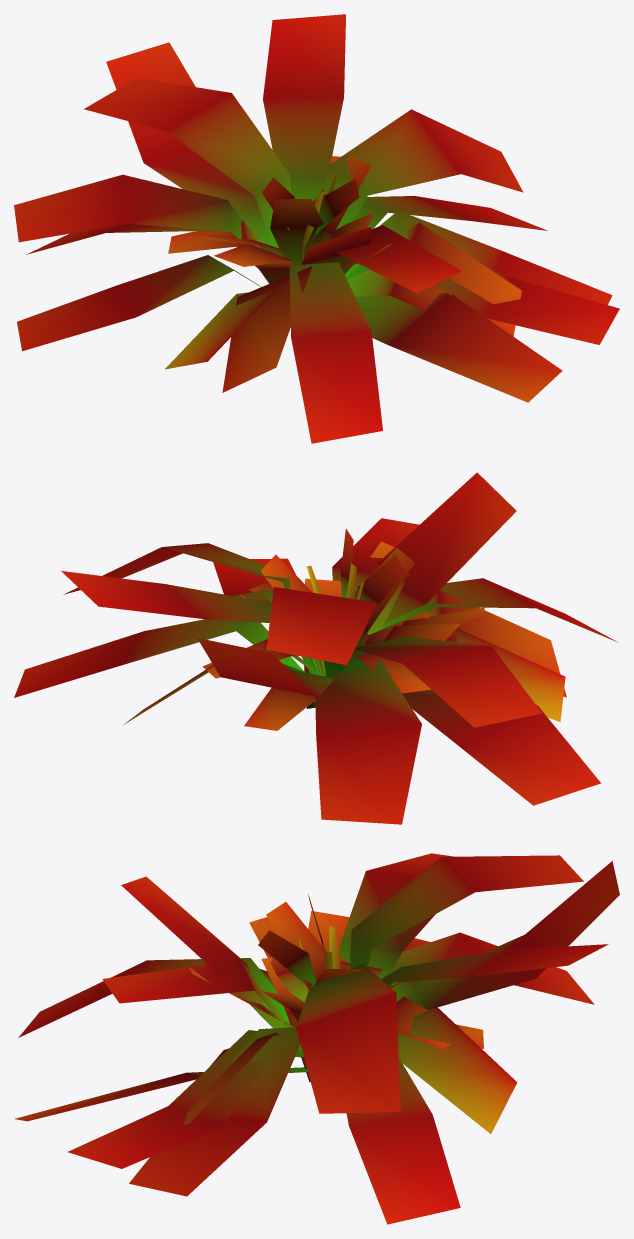
The model's file is Cape Weed_LOD3_Var3_tjmhfcyia.fbx.
The picture shows the model from 3 angles, top to bottom: view 1: azimuth 30°, elevation 25°; view 2: azimuth 150°, elevation 25°; view 3: azimuth 270°, elevation 25°; orthographic projection. The views are drawn at different scales.
Parts seen in each view (by area): view 1: _beb6_Var3_LOD3; view 2: _beb6_Var3_LOD3; view 3: _beb6_Var3_LOD3.
Boxes of the visible parts, x1,y1,x2,y2 form: _beb6_Var3_LOD3: (14, 14, 619, 443); _beb6_Var3_LOD3: (14, 472, 617, 824); _beb6_Var3_LOD3: (15, 853, 619, 1224).
Bounding box in the file's own units: 38.54 × 13.27 × 35.25.
